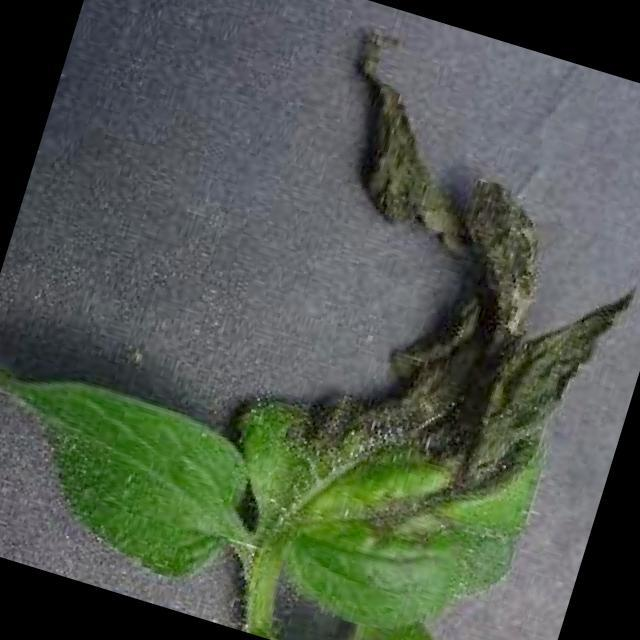Tomato healthy leaf: (0, 352, 261, 595)
Tomato late blight leaf: (194, 20, 640, 640)
